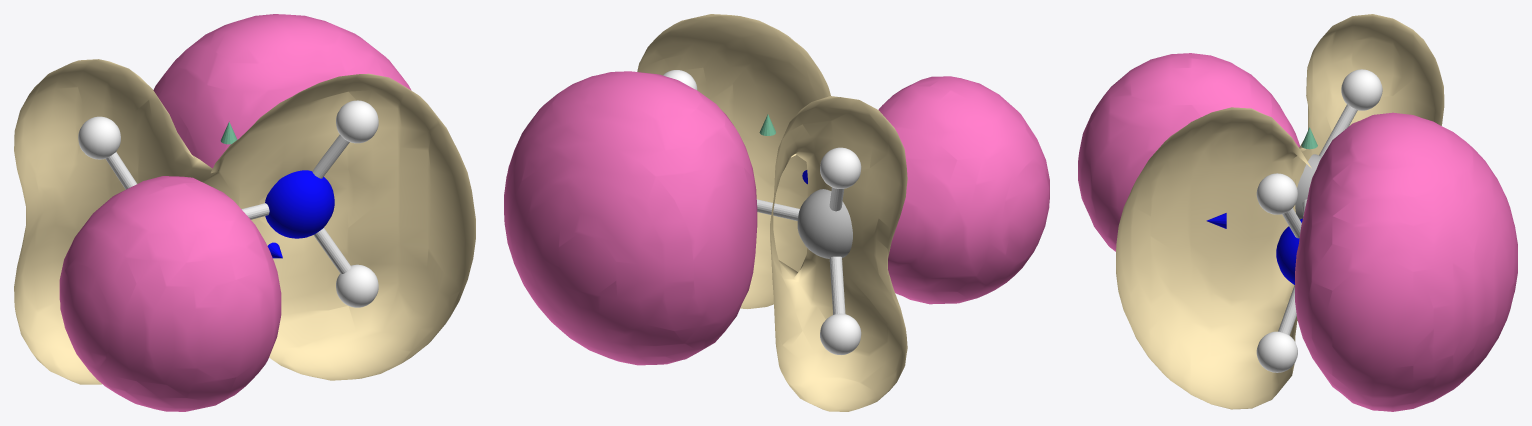
The model's file is homo.glb.
3 renders of one model, left to right at view 1: azimuth 30°, elevation 25°; view 2: azimuth 150°, elevation 25°; view 3: azimuth 270°, elevation 25°, orthographic. The views are drawn at different scales.
Visible parts, largest first — view 1: Renderer Node; view 2: Renderer Node; view 3: Renderer Node (×2).
Part boxes in pixels (left/top/right/bottom): Renderer Node: left=14, top=14, right=475, bottom=411; Renderer Node: left=504, top=14, right=1049, bottom=411; Renderer Node (×2): left=1078, top=14, right=1517, bottom=411.
Bounding box in the file's own units: 4.71 × 3.23 × 4.24.
